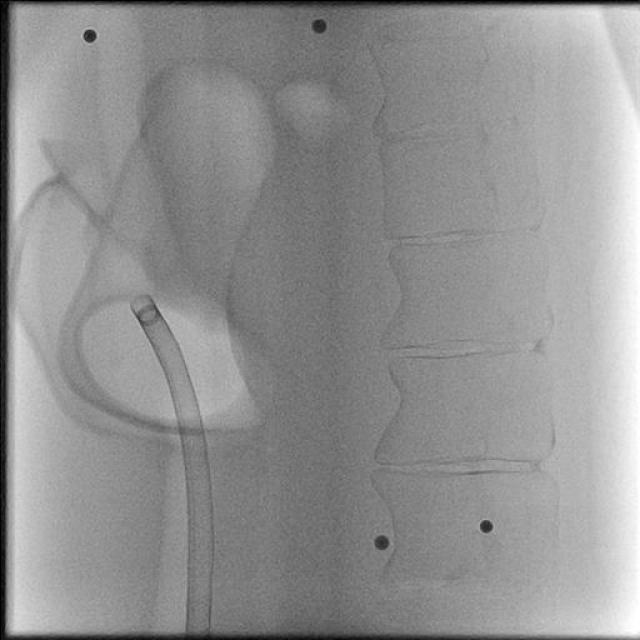bend: (186, 576, 212, 591)
entry: (185, 632, 211, 638)
marker: (136, 308, 162, 324)
tip: (126, 292, 154, 304)
